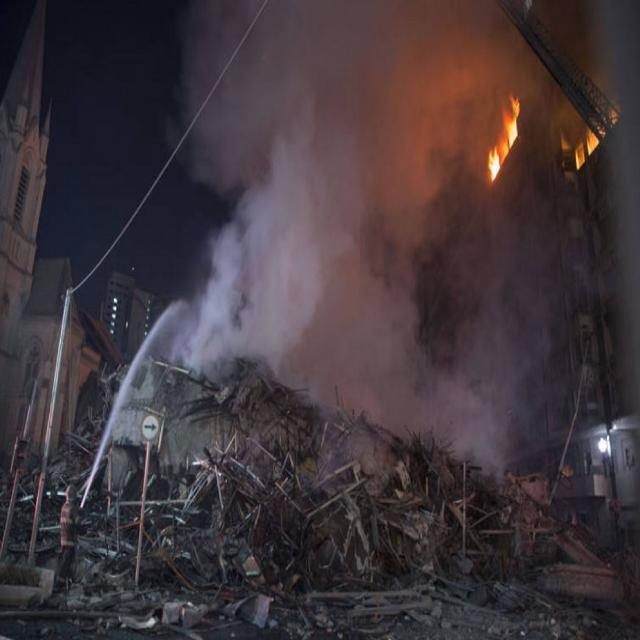Fire: (478, 100, 522, 176)
